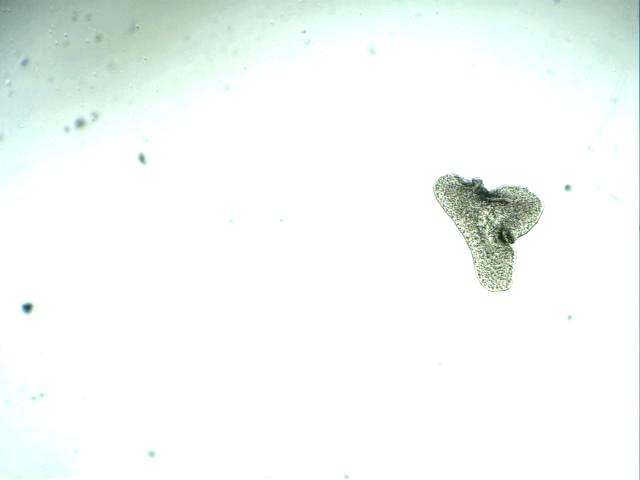Placozoan: (433, 173, 544, 293)
